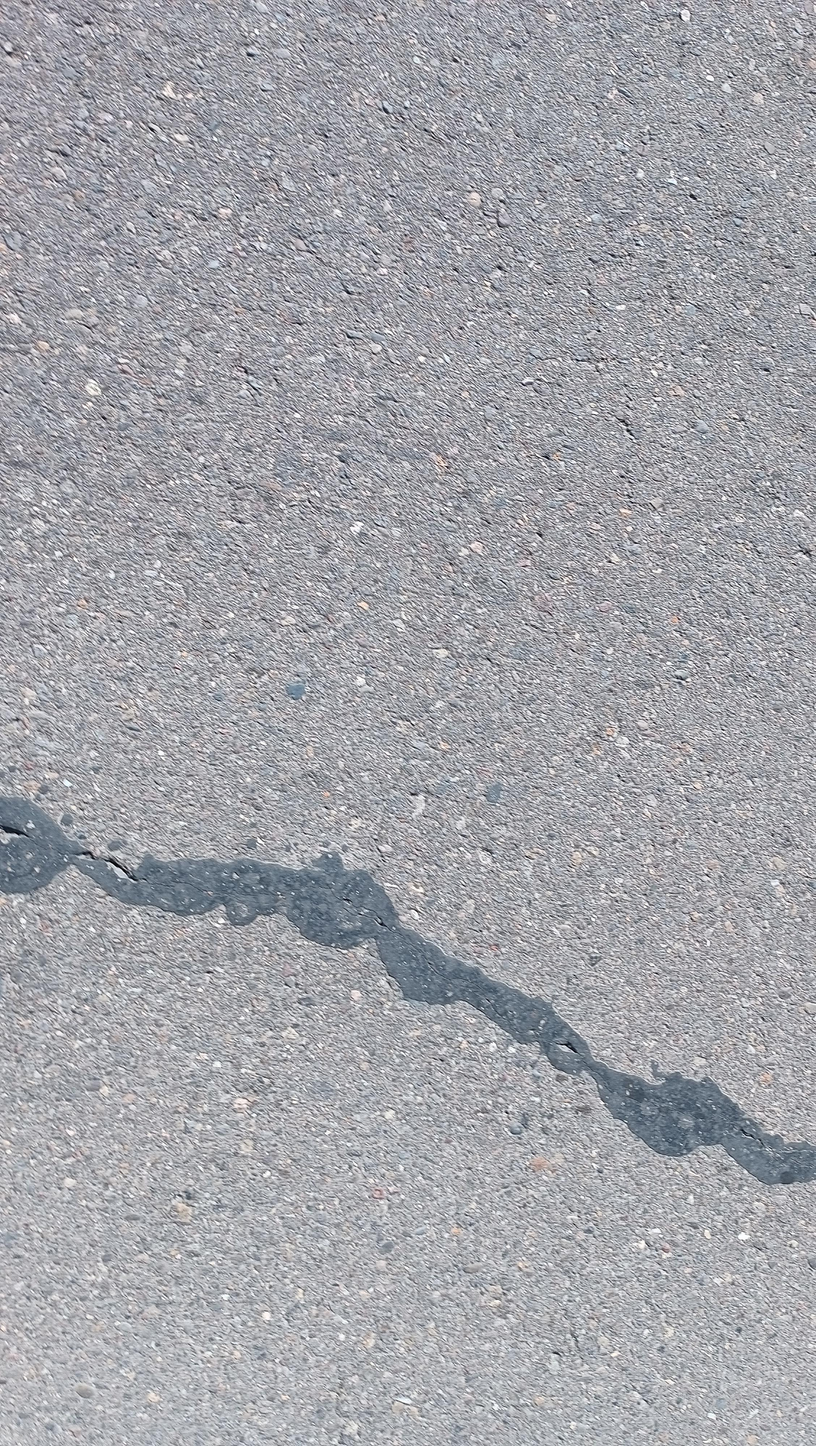GRIETA: (0, 824, 152, 884), (335, 896, 404, 938), (404, 941, 451, 981), (733, 1126, 771, 1151), (664, 1106, 716, 1121)
PARCHE: (0, 797, 816, 1185)
